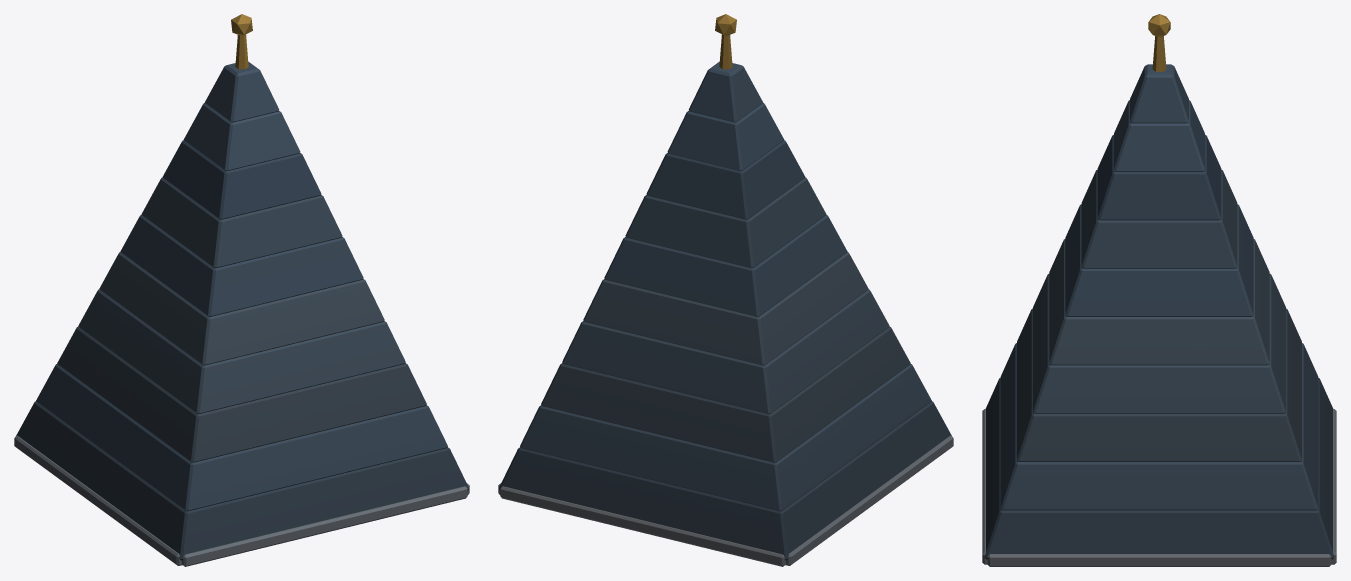
Rendered from piece_slatespire.glb.
3 views of the same model, side by side, from view 1: azimuth 30°, elevation 25°; view 2: azimuth 150°, elevation 25°; view 3: azimuth 270°, elevation 25° (orthographic). The views are drawn at different scales.
Parts seen in each view (by area): view 1: Base; view 2: Base; view 3: Base.
Boxes of the visible parts, x1,y1,x2,y2 form: Base: (14, 14, 469, 566); Base: (498, 14, 953, 566); Base: (982, 14, 1336, 566).
Bounding box in the file's own units: 4.64 × 6.92 × 4.64.
